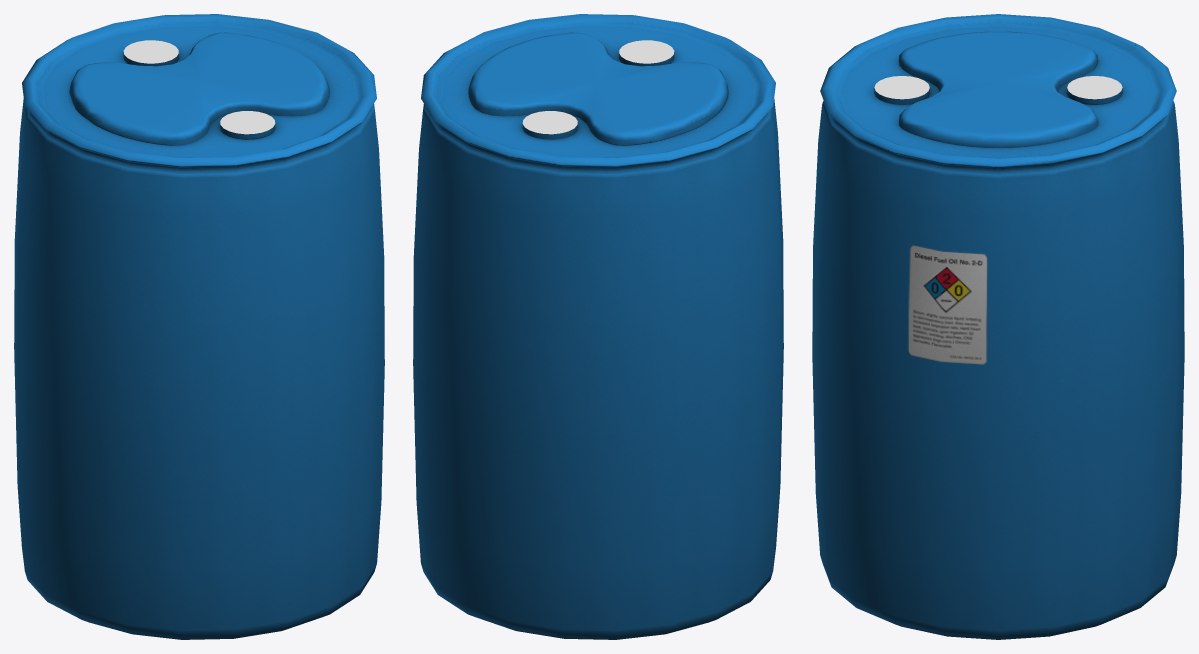
File: diesel.fbx
The picture shows the model from 3 angles, left to right: view 1: azimuth 30°, elevation 25°; view 2: azimuth 150°, elevation 25°; view 3: azimuth 270°, elevation 25°; orthographic projection.
Parts seen in each view (by area): view 1: diesel; view 2: diesel; view 3: diesel.
Boxes of the visible parts, x1,y1,x2,y2 form: diesel: [14, 14, 384, 639]; diesel: [413, 14, 783, 639]; diesel: [812, 14, 1184, 639].
Bounding box in the file's own units: 0.4089 × 0.5907 × 0.4089.
1 material, 1 textured.
